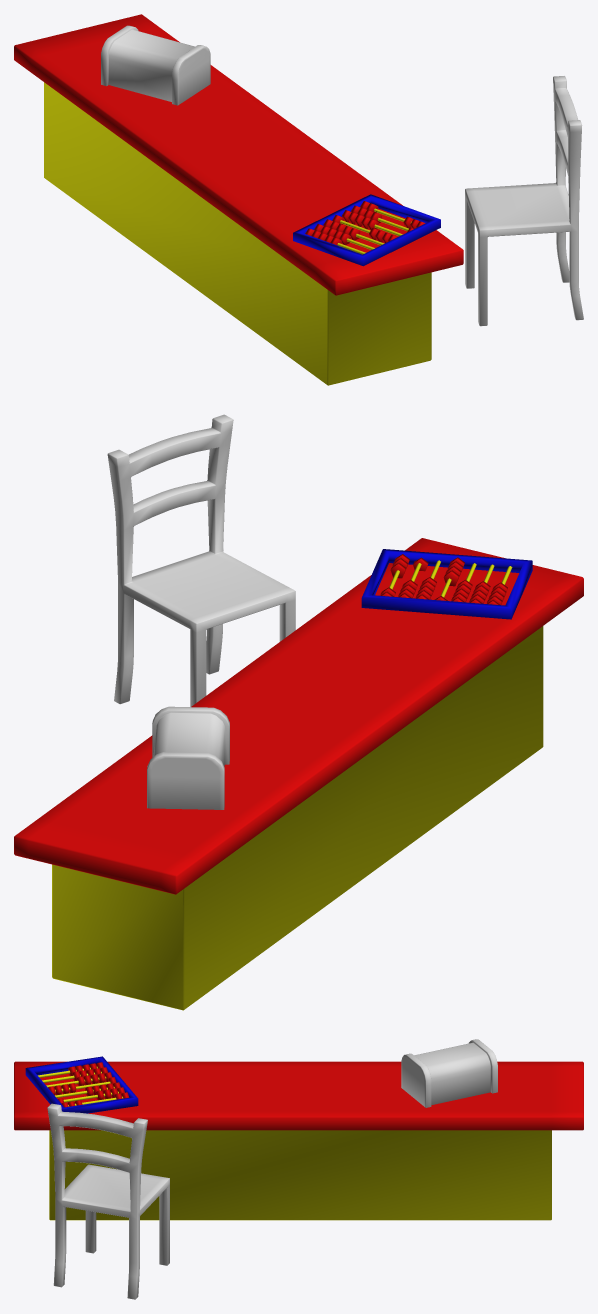
File: Prilavok.fbx
The picture shows the model from 3 angles, top to bottom: view 1: azimuth 30°, elevation 25°; view 2: azimuth 150°, elevation 25°; view 3: azimuth 270°, elevation 25°; orthographic projection. The views are drawn at different scales.
Visible parts, largest first — view 1: Cube, Cube.004, Cube.011, Cylinder.019; view 2: Cube, Cube.004, Cube.011, Cylinder.019; view 3: Cube, Cube.004, Cube.011, Cylinder.019.
Boxes of the visible parts, x1,y1,x2,y2 form: Cube: (14,14,463,385); Cube.004: (465,76,583,326); Cube.011: (101,25,210,105); Cylinder.019: (293,194,440,266); Cube: (14,538,583,1010); Cube.004: (107,414,295,706); Cube.011: (147,706,229,809); Cylinder.019: (361,549,532,619); Cube: (14,1061,583,1220); Cube.004: (47,1103,169,1299); Cube.011: (401,1039,497,1107); Cylinder.019: (25,1056,138,1113).
Bounding box in the file's own units: 583 × 369 × 1073.
